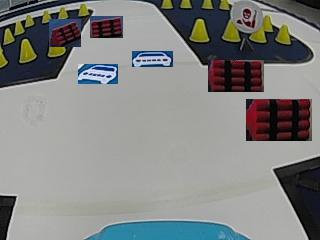evil: (230, 1, 262, 32)
